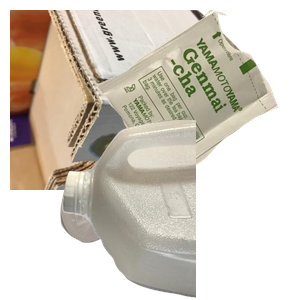cardboard: (10, 10, 250, 190)
glass: (58, 170, 202, 300)
plastic: (60, 120, 300, 300)
trash: (91, 10, 300, 186)
